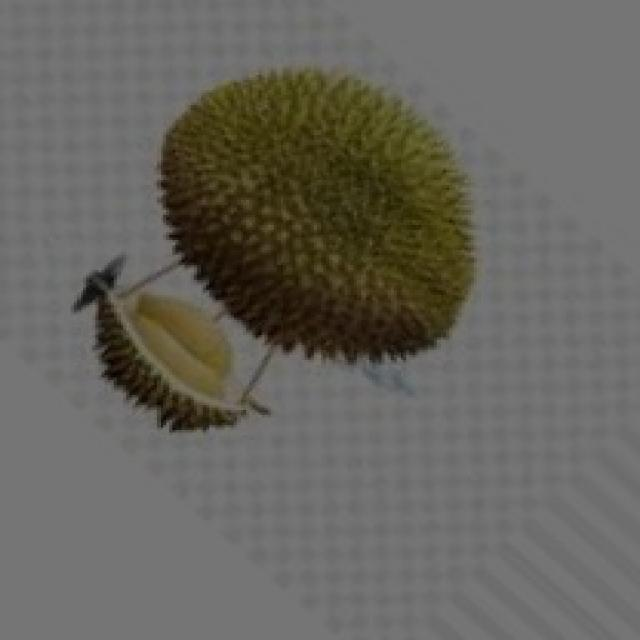fruit: (132, 32, 508, 400)
